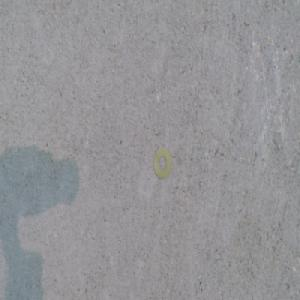Washer: (153, 147, 173, 181)
